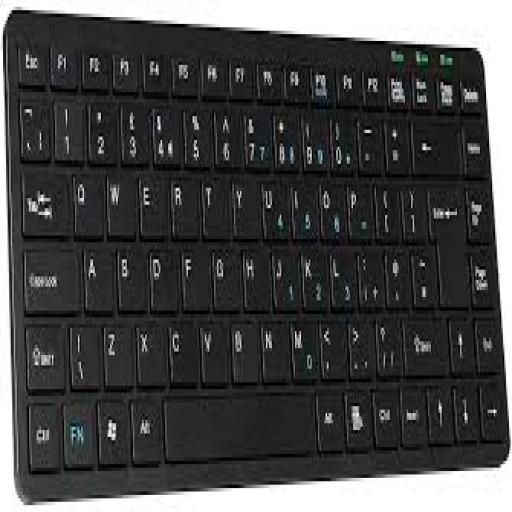KEYBOARD-2: (3, 10, 510, 495)
